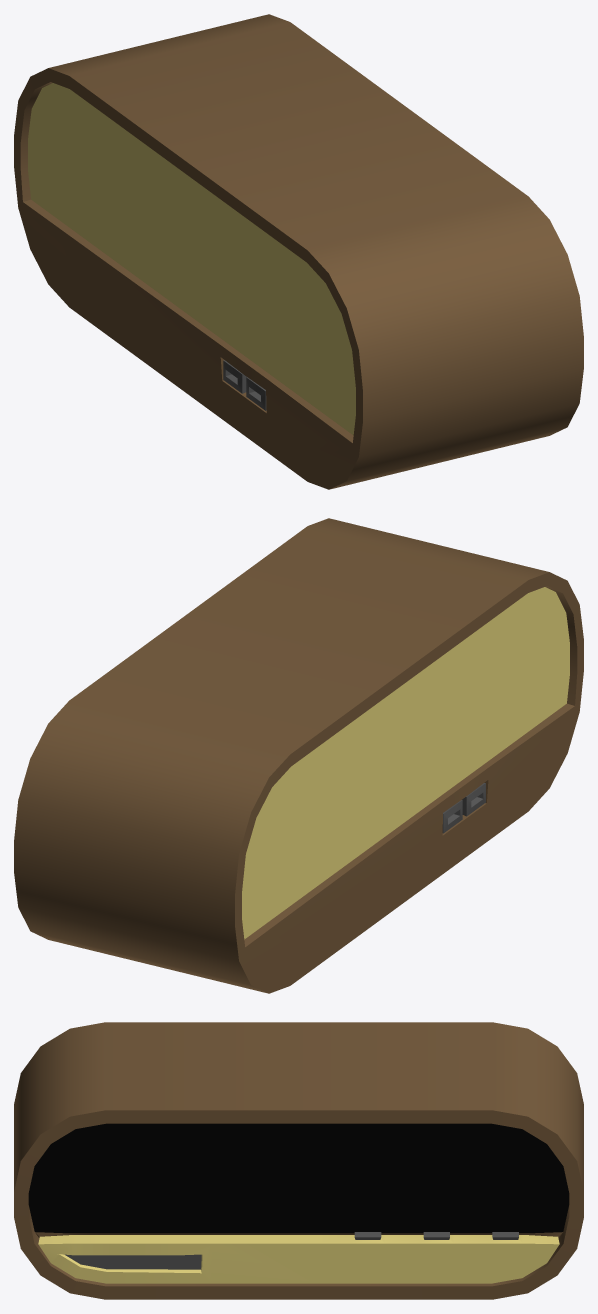
The model's file is Clock_1.fbx.
3 renders of one model, top to bottom at view 1: azimuth 30°, elevation 25°; view 2: azimuth 150°, elevation 25°; view 3: azimuth 270°, elevation 25°, orthographic. The views are drawn at different scales.
Parts seen in each view (by area): view 1: Cube.003; view 2: Cube.003; view 3: Cube.003.
Boxes of the visible parts, box(x1,y1,x2,y2) form: Cube.003: box(14, 14, 583, 489); Cube.003: box(14, 518, 583, 993); Cube.003: box(14, 1022, 583, 1299).
Size of the model in its own units: 205 by 204 by 558.
